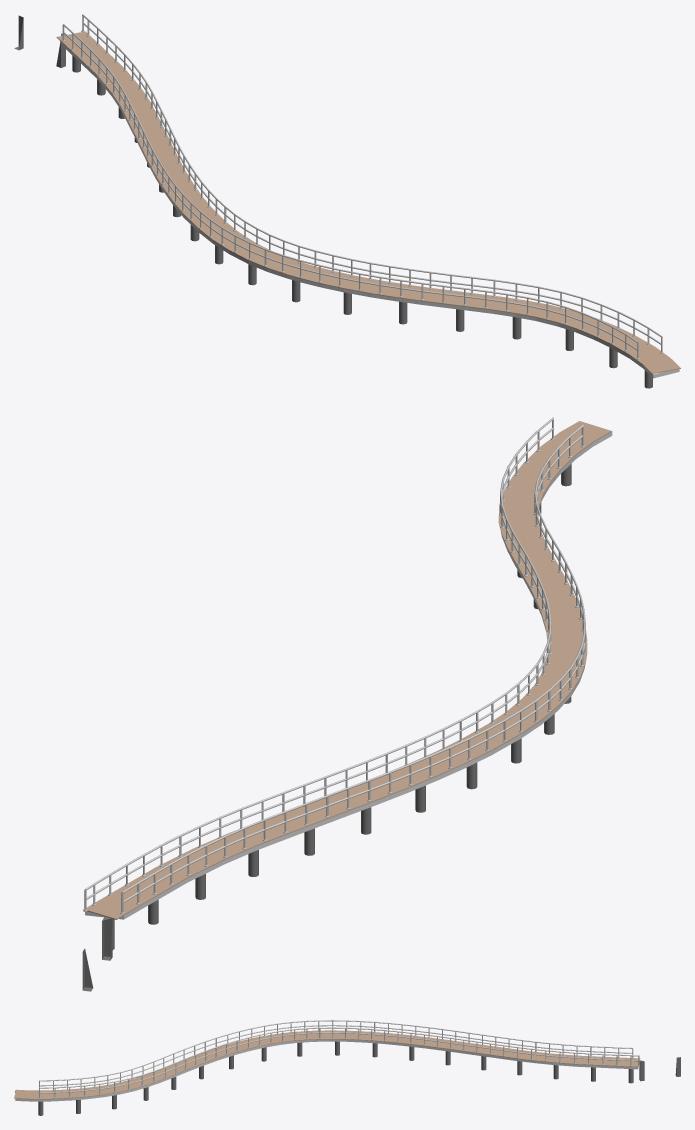
Rendered from s桥单独.fbx.
3 renders of one model, top to bottom at view 1: azimuth 30°, elevation 25°; view 2: azimuth 150°, elevation 25°; view 3: azimuth 270°, elevation 25°, orthographic. The views are drawn at different scales.
Parts seen in each view (by area): view 1: 黑涂料; view 2: 黑涂料; view 3: 黑涂料.
Part boxes in pixels (x1,y1,x2,y2): 黑涂料: [14, 14, 680, 388]; 黑涂料: [82, 417, 612, 991]; 黑涂料: [14, 1020, 680, 1115].
Size of the model in its own units: 14.42 by 3.02 by 59.31.
